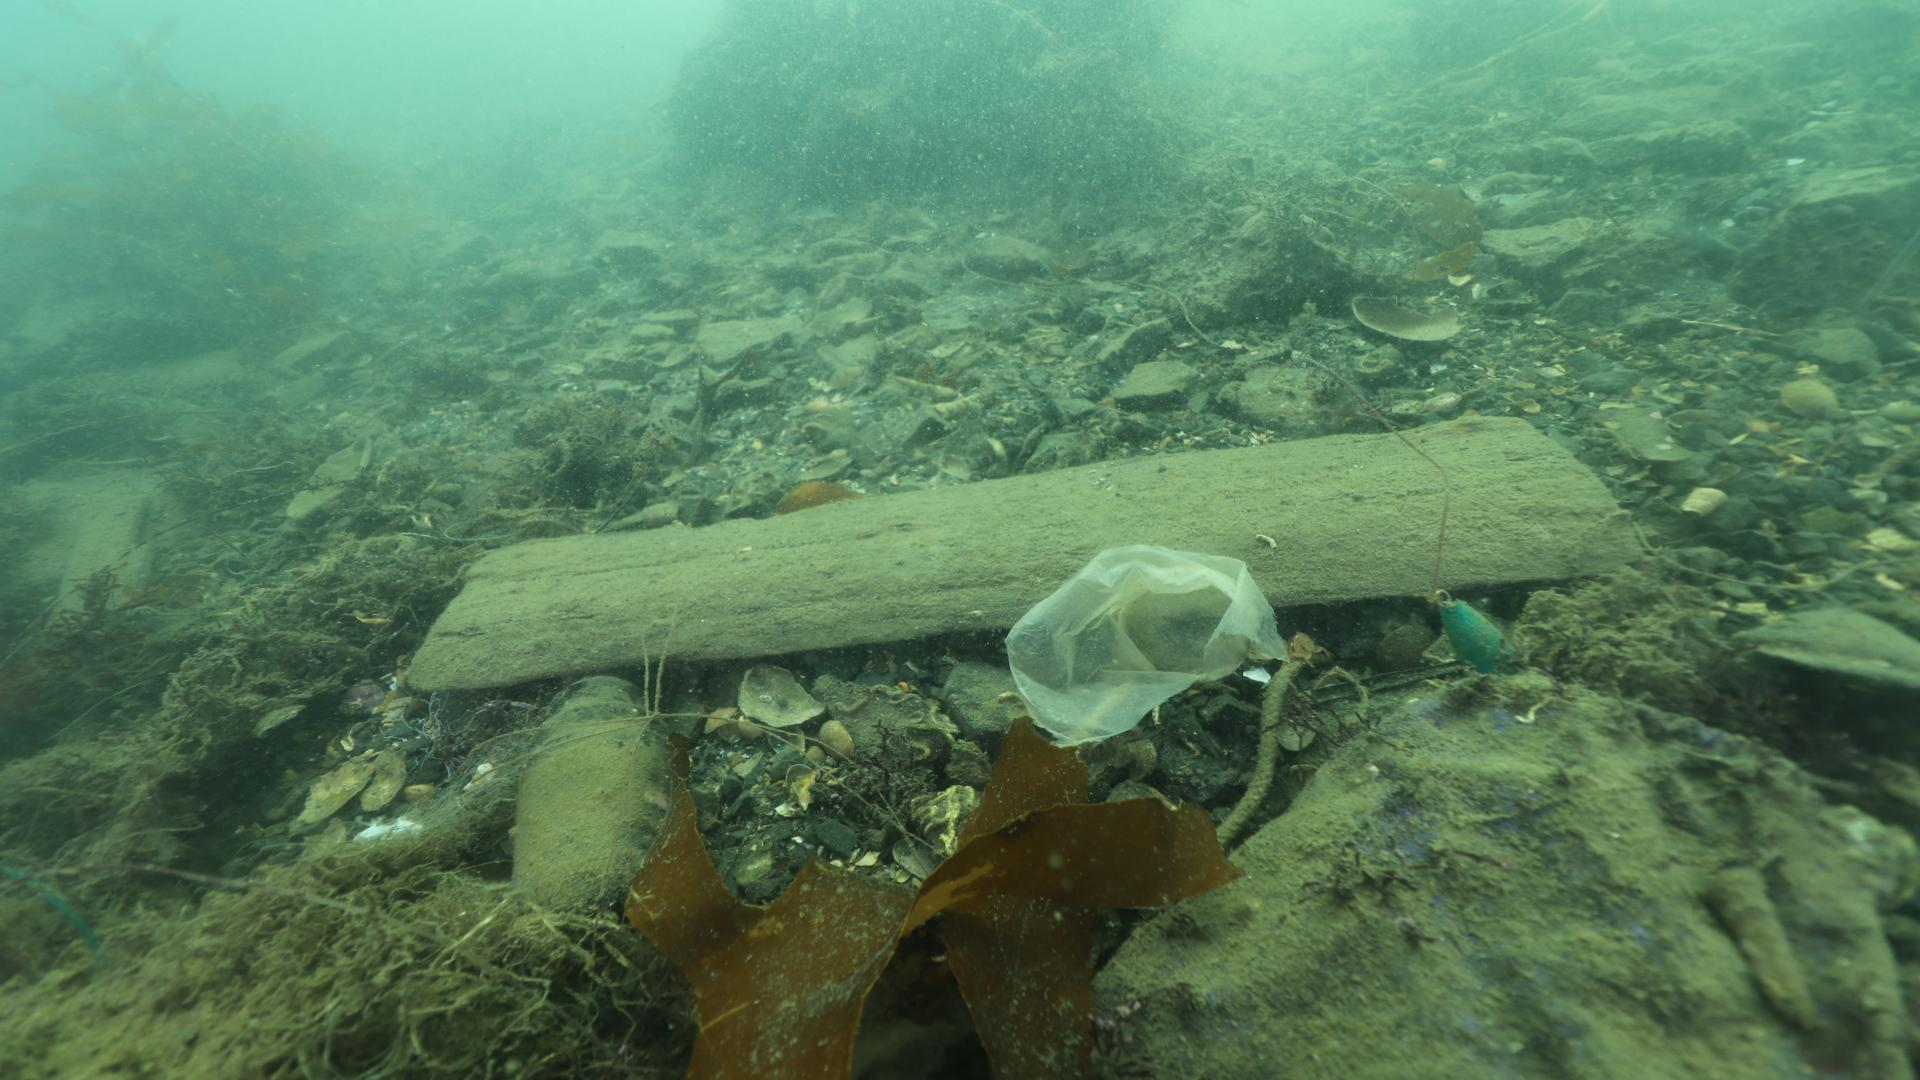wood: (404, 411, 1643, 691)
